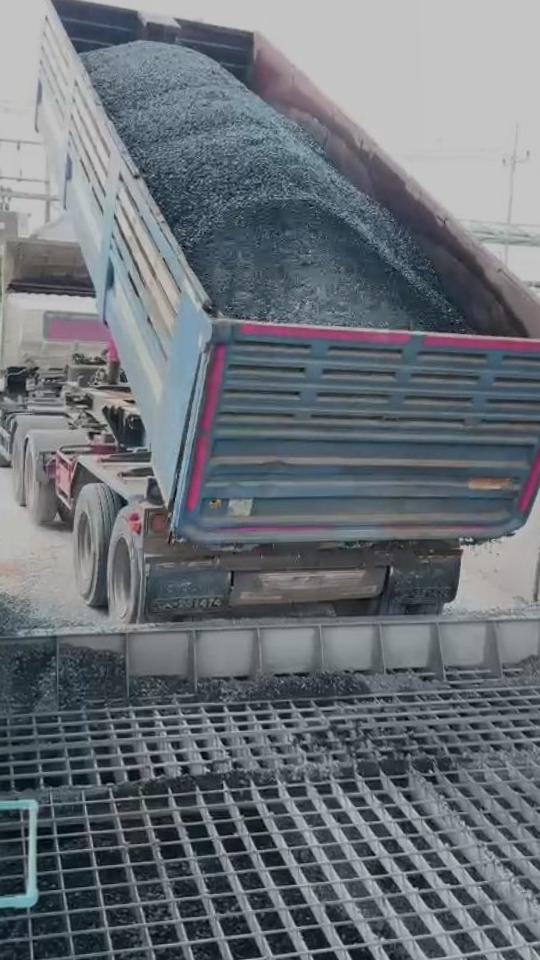gravel: (82, 41, 465, 330), (0, 592, 126, 714), (490, 588, 540, 678), (258, 667, 344, 696)
